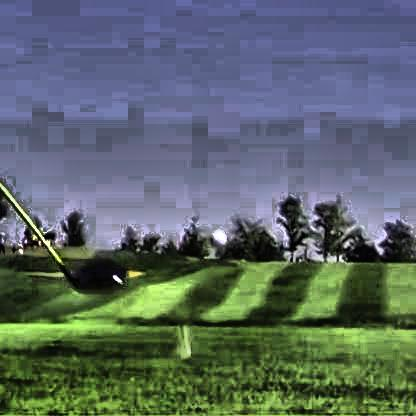golfball: (207, 228, 223, 244)
